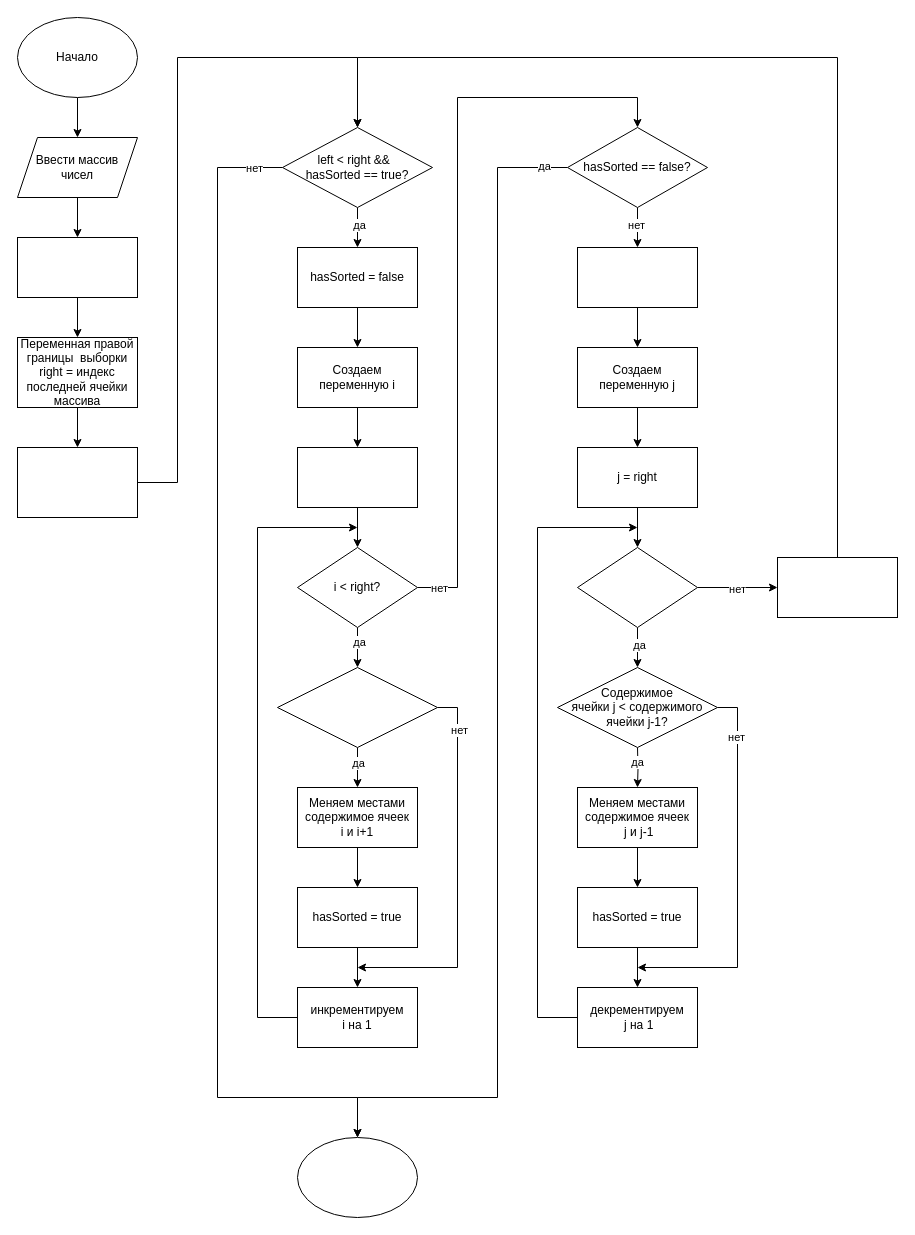
The diagram is 915 pixels wide and 1235 high, and some of its shapes have lost their labels. Each missing label, with the centre of its shape:
"i = left" goes at point 357,477.
"j > left?" goes at point 637,587.
"декрементируем right" goes at point 637,277.
"инкрементируем left" goes at point 837,587.
"Конец" goes at point 357,1177.
"Переменная левой границы выборки left = индекс первой ячейки массива" goes at point 77,267.
"Содержимое ячейки i > содержимого ячейки i+1?" goes at point 357,707.
"Флаг об индикации перемещения содержимого массива hasSorted = true" goes at point 77,482.
